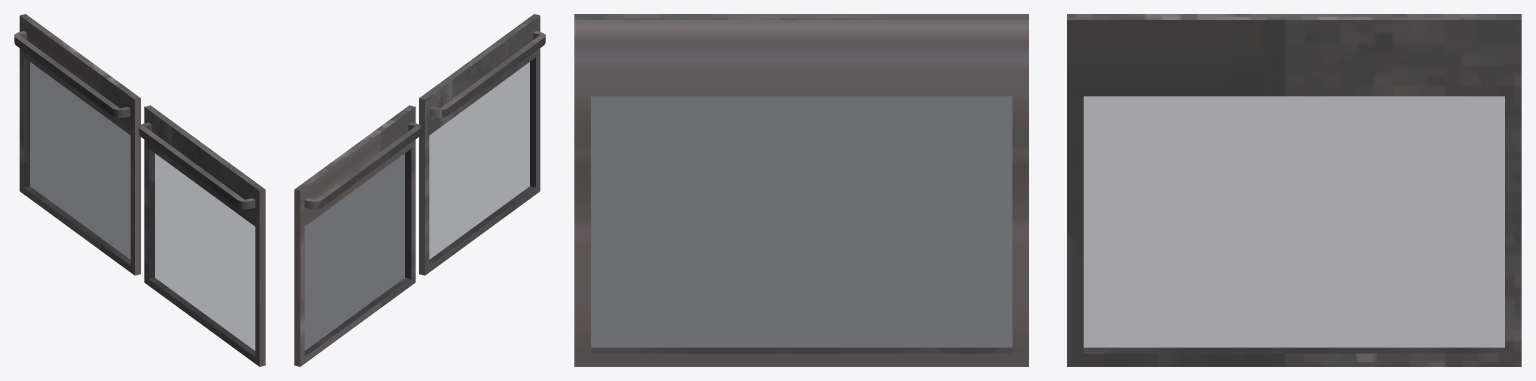
The model's file is Kitchen1.fbx.
3 renders of one model, left to right at view 1: azimuth 30°, elevation 25°; view 2: azimuth 150°, elevation 25°; view 3: azimuth 270°, elevation 25°, orthographic. The views are drawn at different scales.
Parts seen in each view (by area): view 1: SM_KitchenOvenDoor_M_Glass_0; view 2: SM_KitchenOvenDoor_M_Glass_0; view 3: SM_KitchenOvenDoor_M_Glass_0.
Part boxes in pixels (x1=…): SM_KitchenOvenDoor_M_Glass_0: x1=14, y1=14, x2=265, y2=366; SM_KitchenOvenDoor_M_Glass_0: x1=294, y1=14, x2=545, y2=366; SM_KitchenOvenDoor_M_Glass_0: x1=574, y1=14, x2=1521, y2=366.
Bounding box in the file's own units: 19.48 × 169 × 419.
2 materials, 1 textured.
